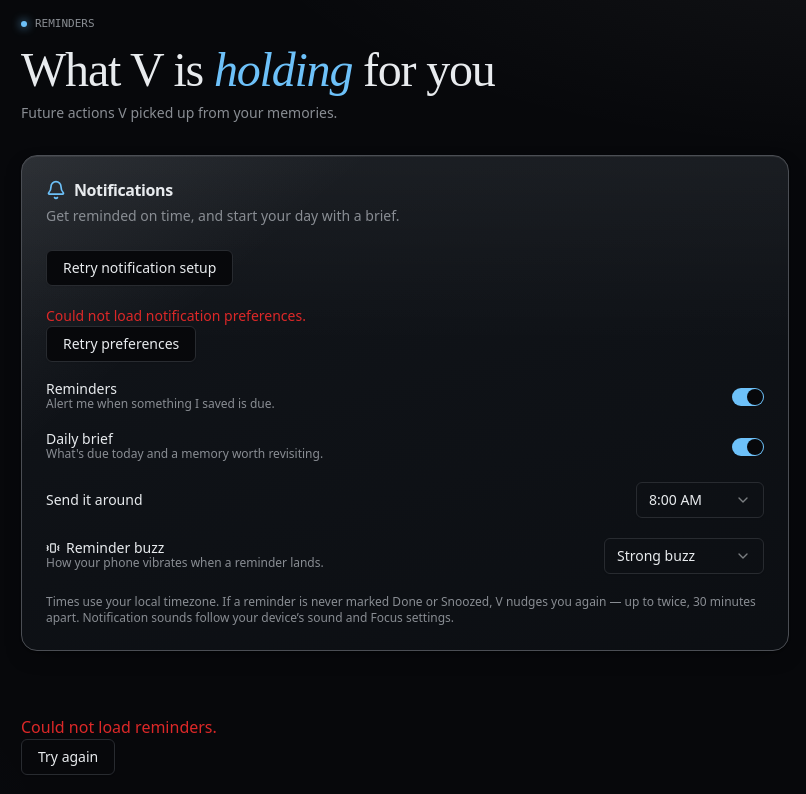
Test: reminder interactions › shows retry instead of a misleading empty state on fetch failure
This screenshot has width=806, height=794.
Step 1. Click the button "Try again" → (68, 757), box [21,739,115,775]
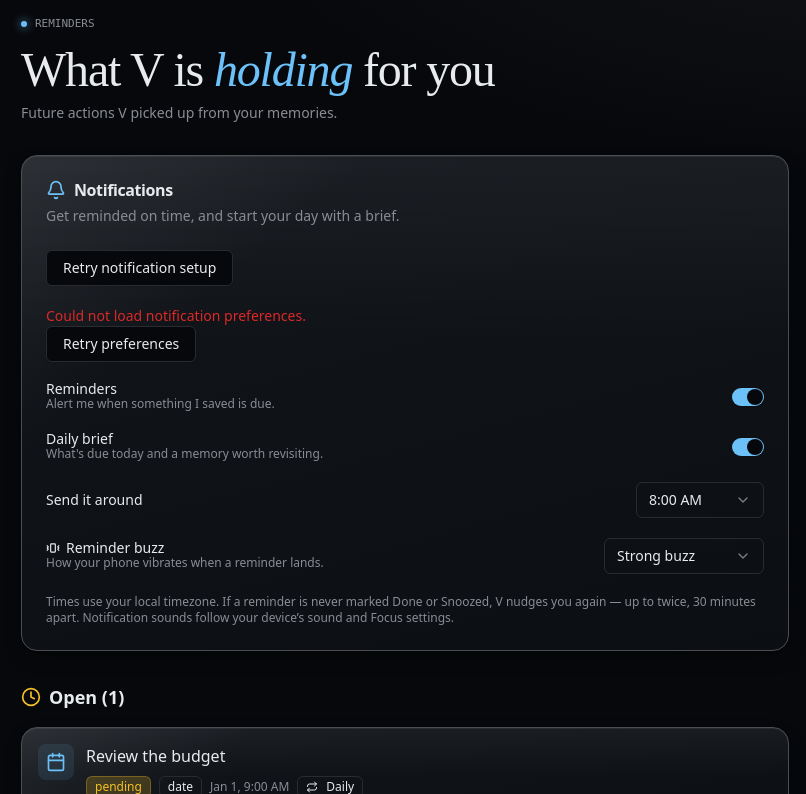
Result: the text "Review the budget" is shown at [86,745,225,767]
